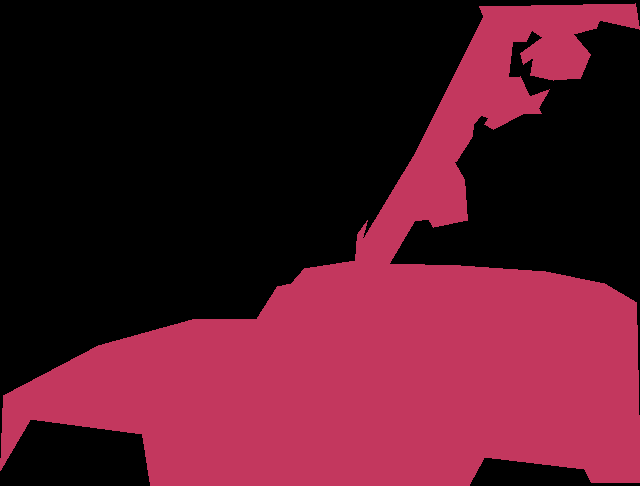Airplane: (0, 3, 640, 486)
